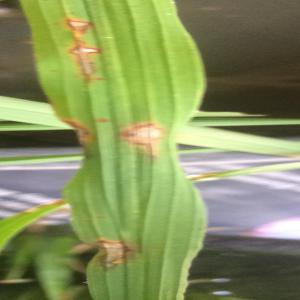Rice_Blast: (51, 100, 116, 171), (119, 98, 176, 174), (80, 214, 140, 271), (64, 39, 113, 82), (53, 6, 99, 43)
